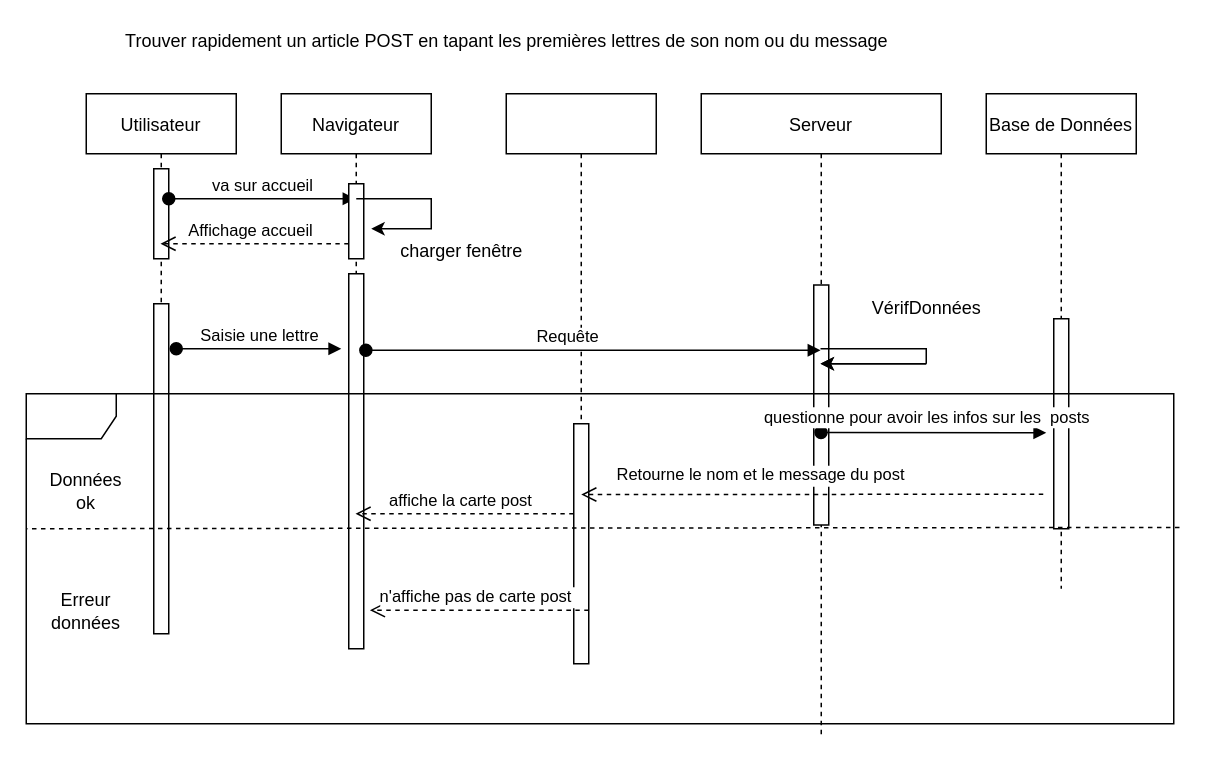
Some shapes in this 1208 by 765 pixel diagram are drawn without their labels. Each missing label, with the box of its shape:
API Platform: (505, 92, 656, 664)
frame: (25, 392, 1174, 724)
